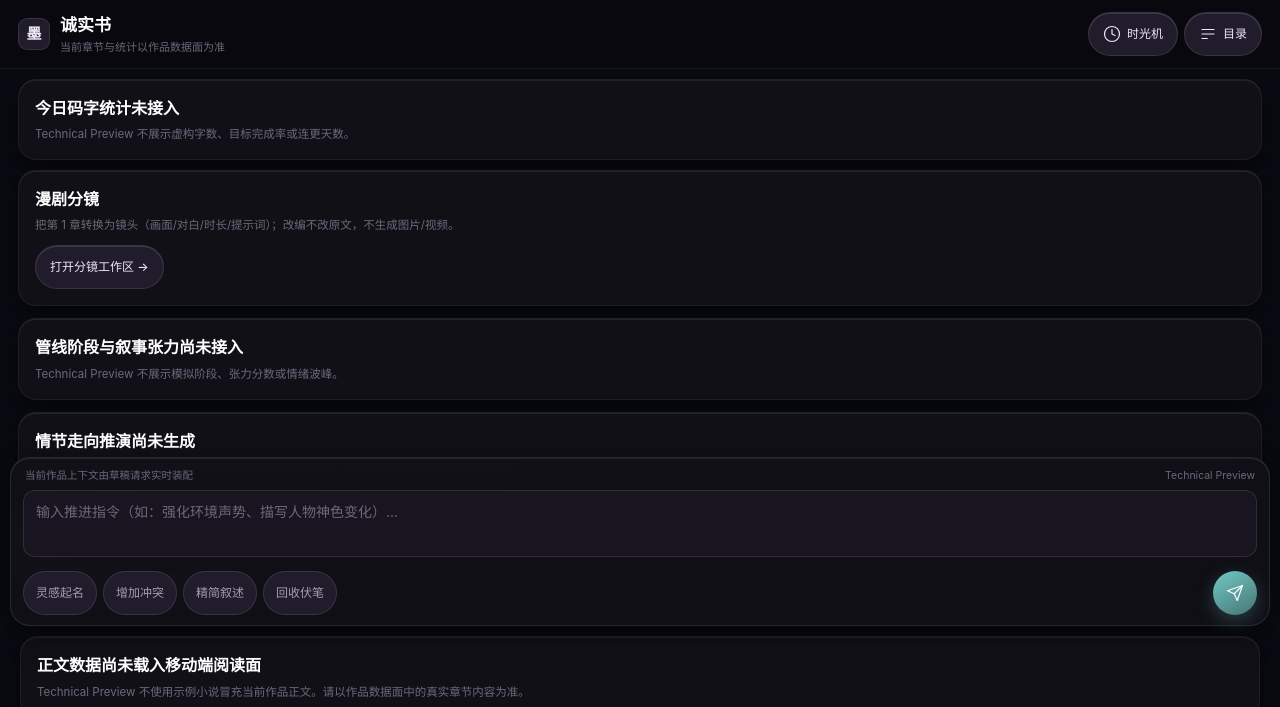
Test: WorkbenchHub · 草稿流终帧诚实性 › error 帧：报失败，不得报完成
In the text box with placeholder "输入推进指令（如：强化环境声势、描写人物神色变化）...": [640, 524] box 23,490 -> 1257,557, type "推进"
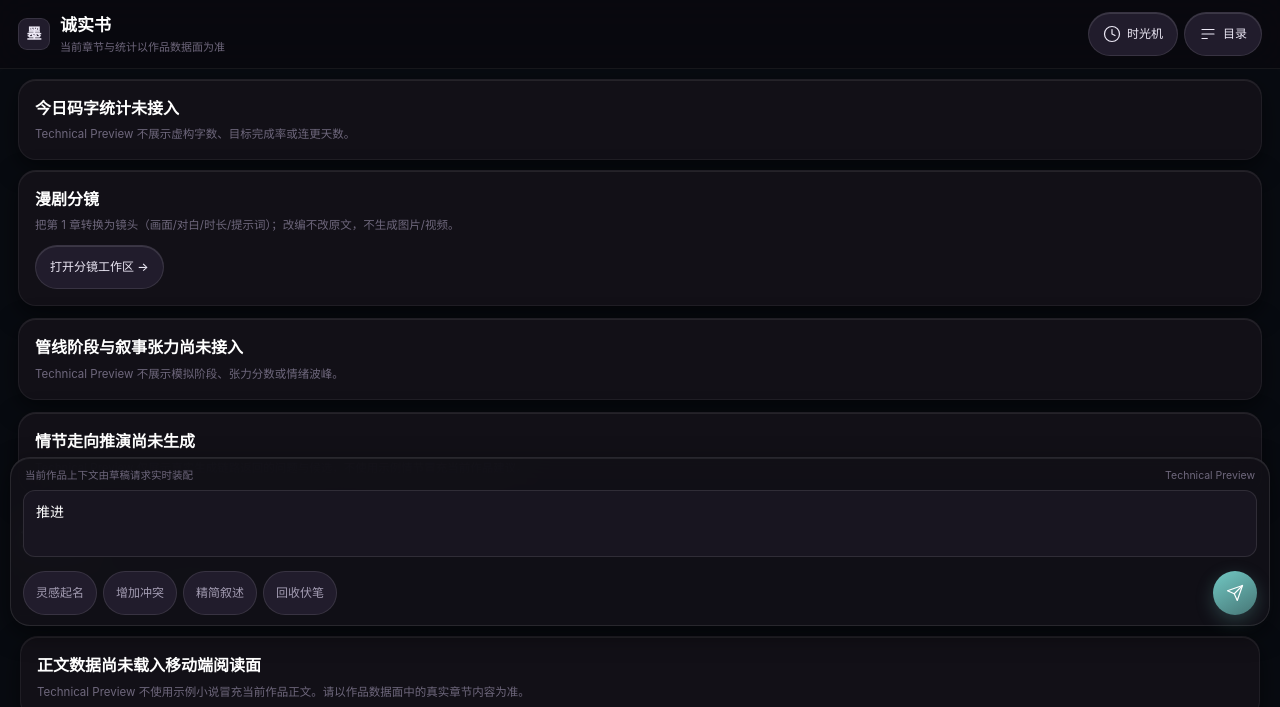
Click the button named "生成草稿": [1235, 593] box 1213,571 -> 1257,615
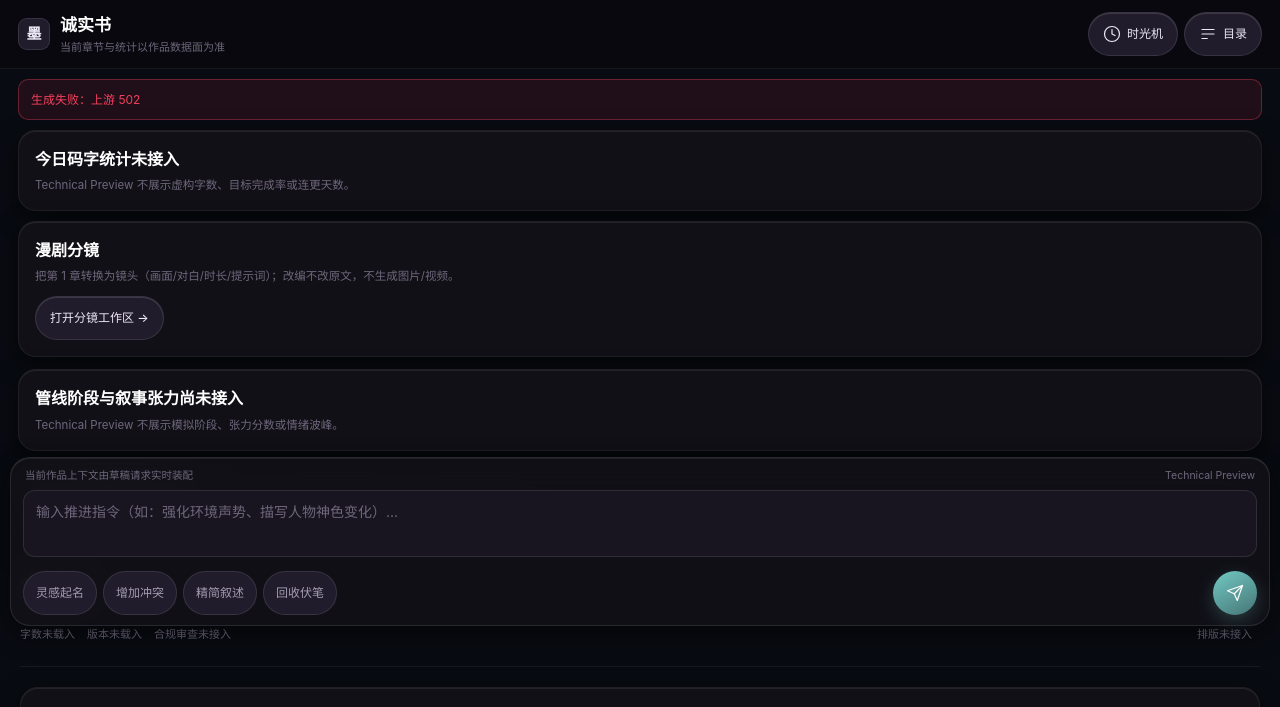
Expected: the message with test id "workbench-notice" shows "生成失败", 31,92 -> 140,107
Expected: the message with test id "workbench-notice" shows "上游 502", 31,92 -> 140,107
